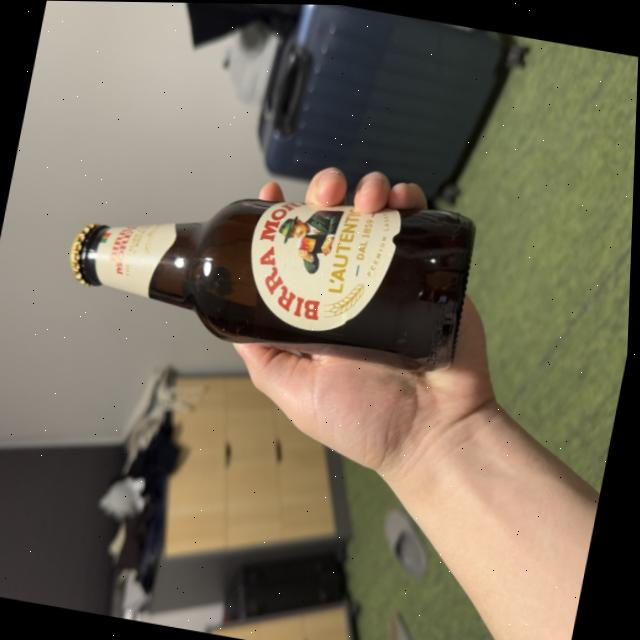beer: (56, 140, 491, 383)
